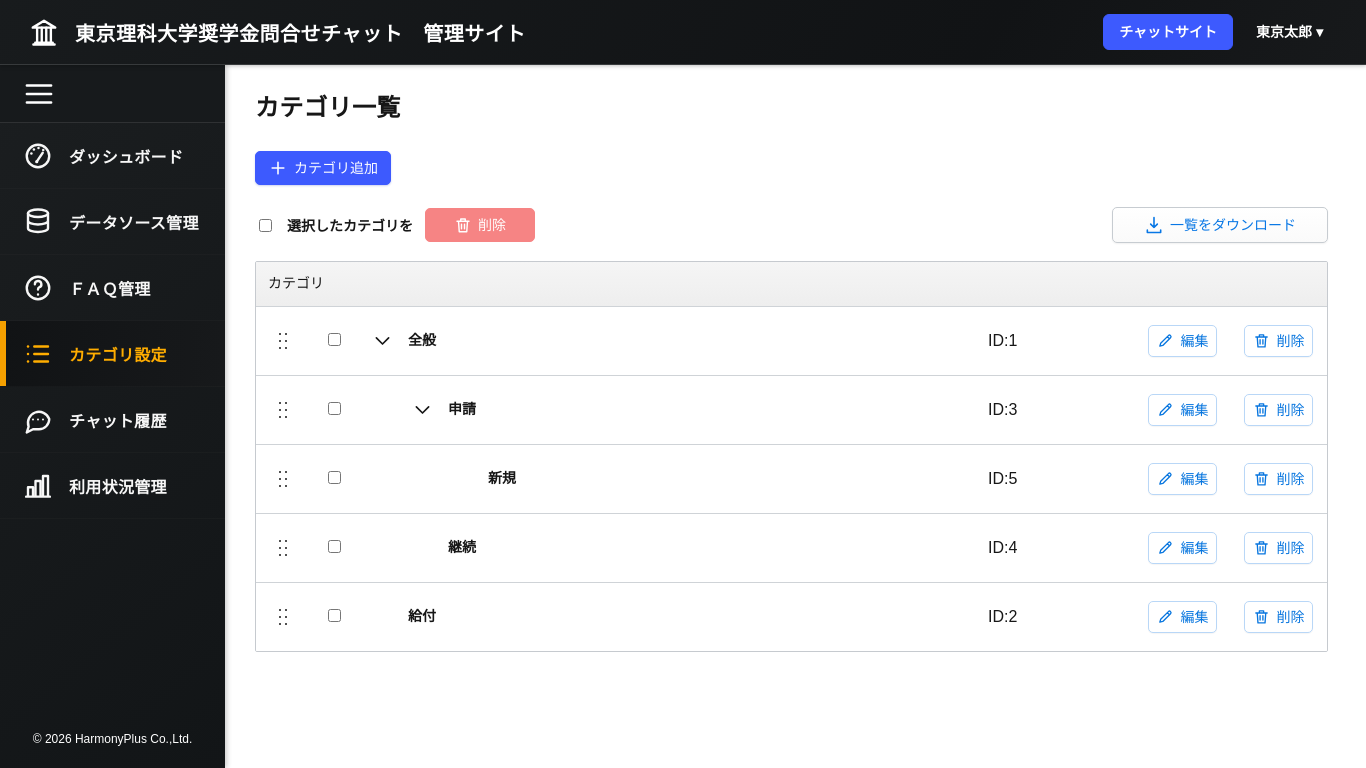
it: CB-213 categories › 新規Modalで階層付き親候補を選び、trimした名称を登録する
The image size is (1366, 768).
Expected: the text "新規" is shown, [488, 469, 516, 488]
Click the button "カテゴリ追加" at x=323, y=168, box [255, 151, 391, 185]
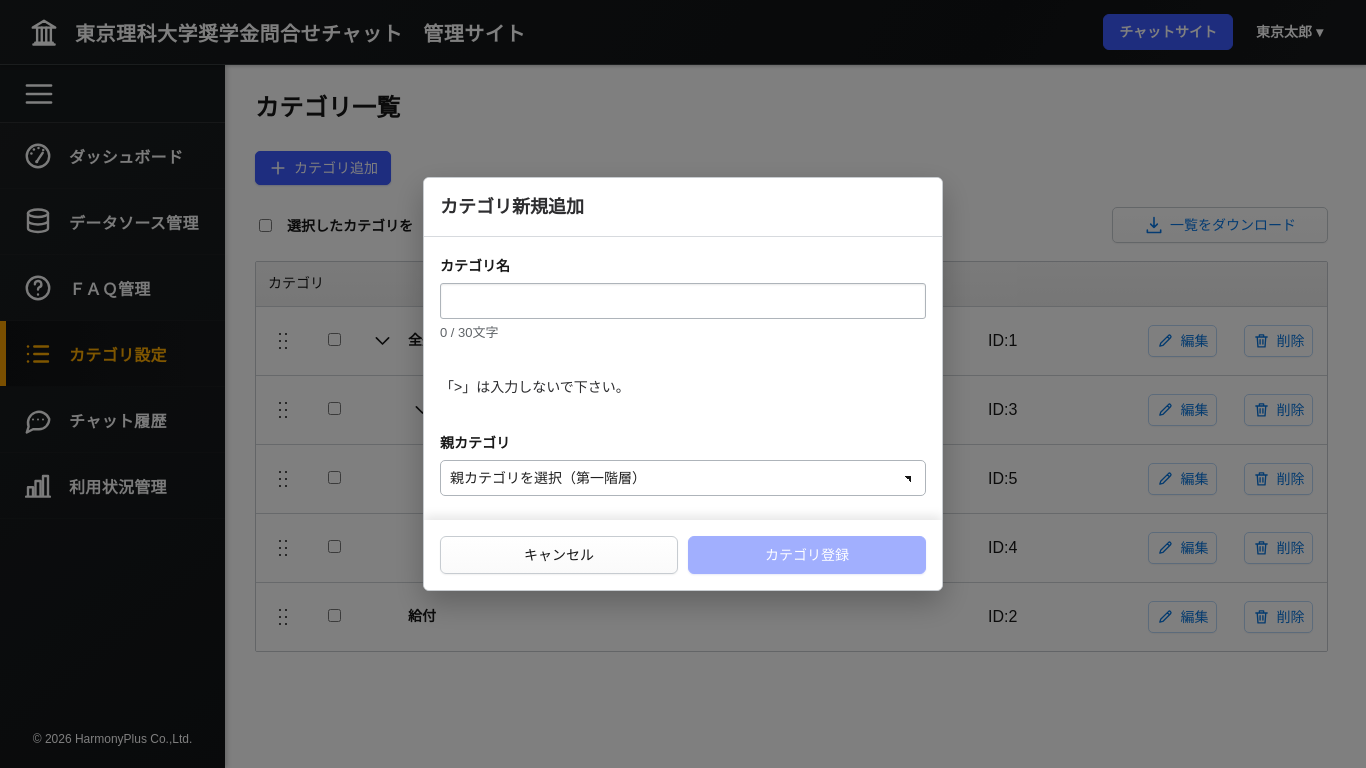
Expected: the button "カテゴリ登録" is disabled, [688, 536, 926, 574]
Type " 国内 " into the field labelled "カテゴリ名" at x=683, y=301, box [440, 283, 926, 319]
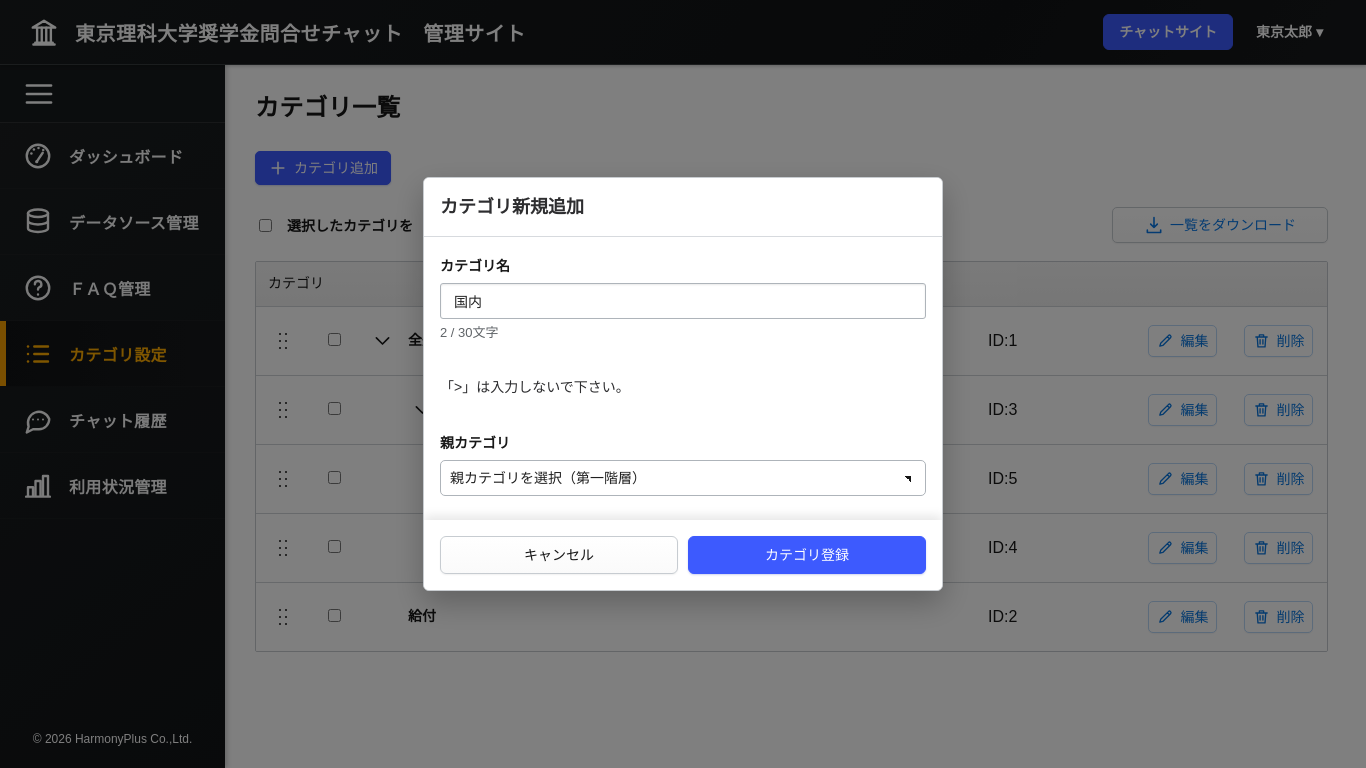
Select "給付" in the dropdown labelled "親カテゴリ" at x=683, y=478, box [440, 460, 926, 496]
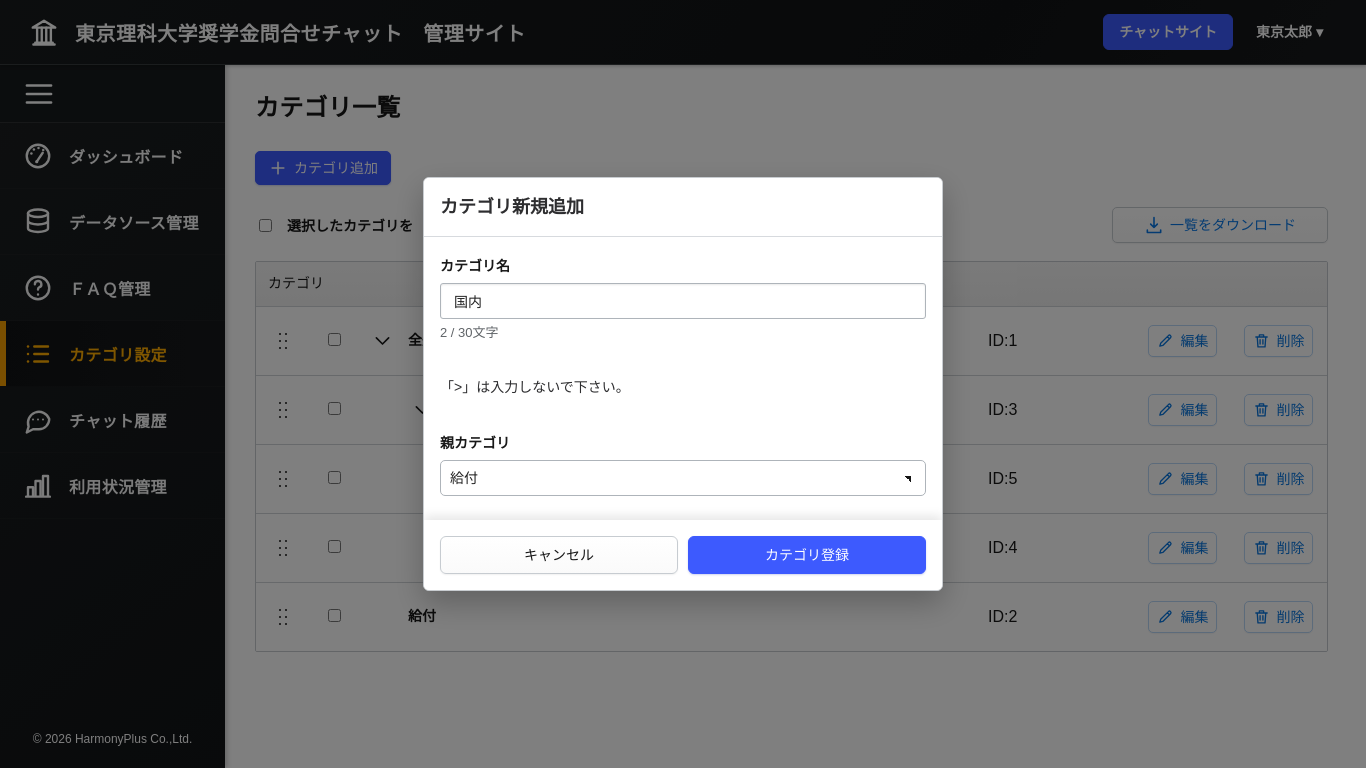
Expected: the button "カテゴリ登録" is enabled
Click the button "カテゴリ登録" at x=807, y=555, box [688, 536, 926, 574]
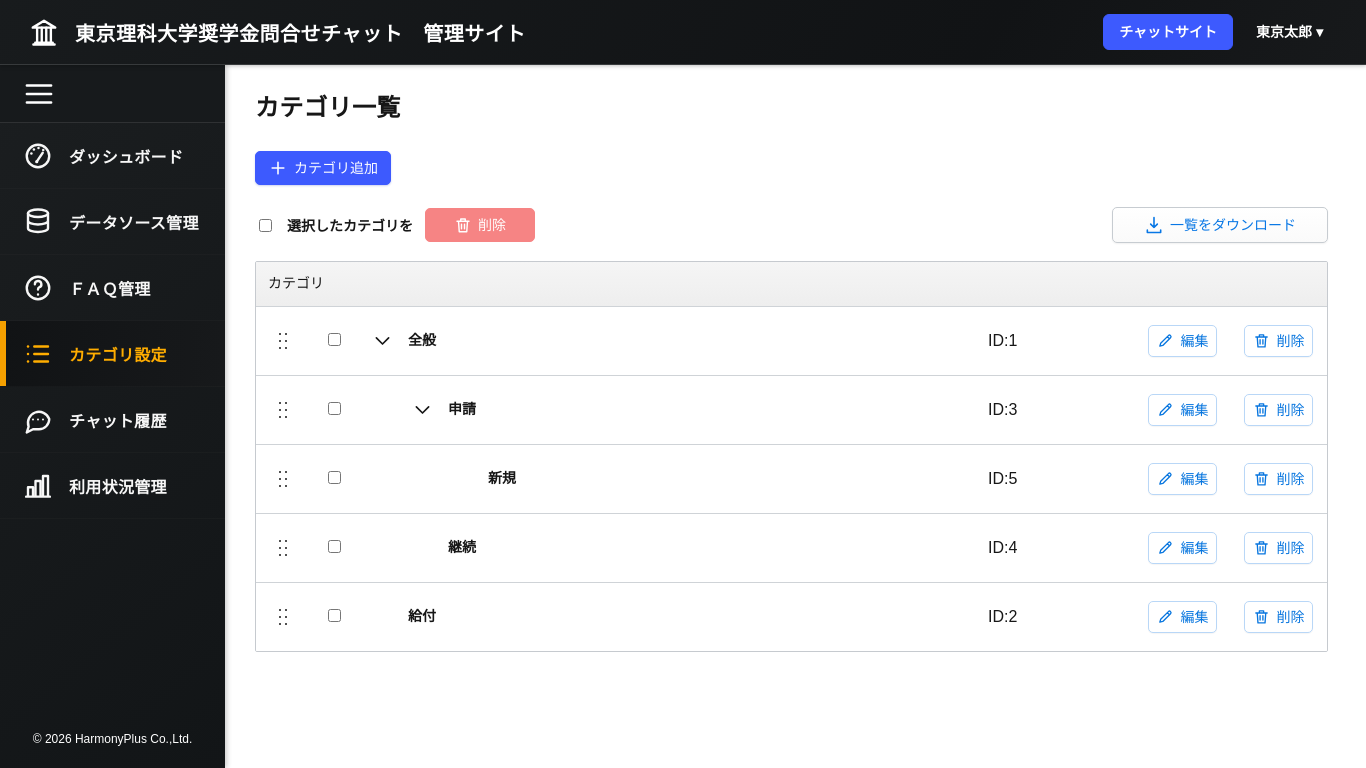
Expected: the dialog is gone
